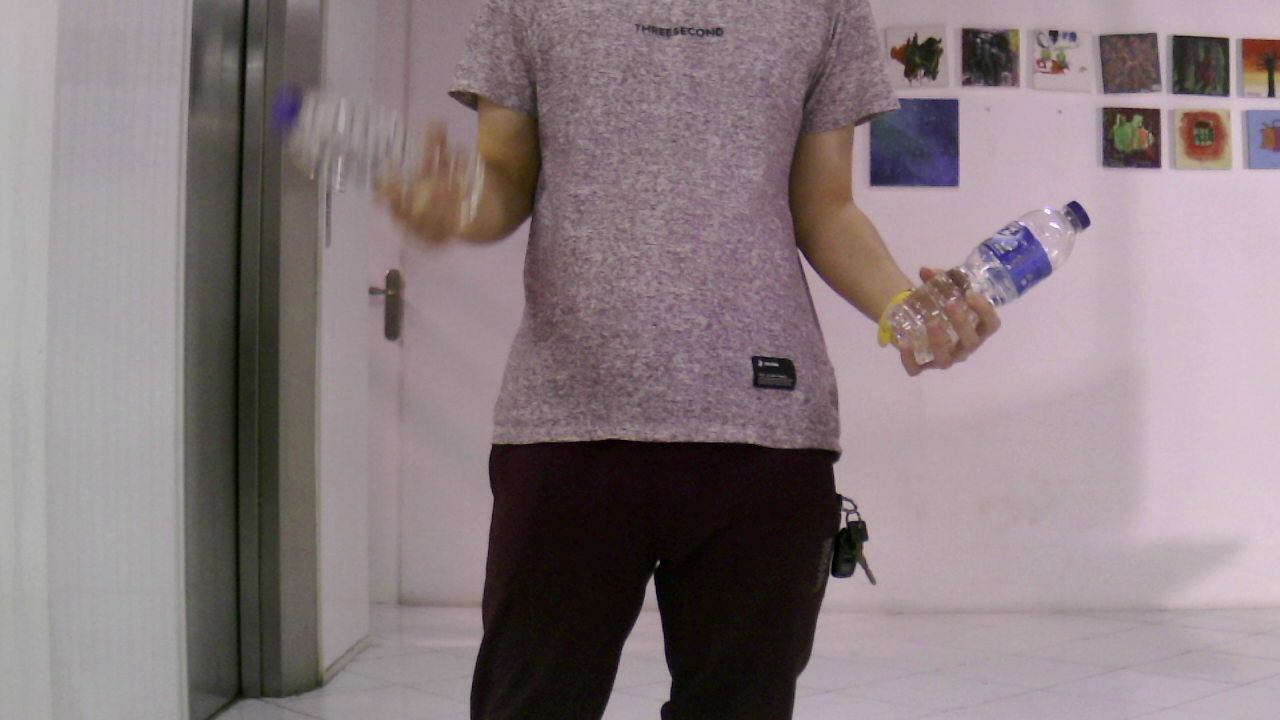Bottle: (891, 203, 1102, 370)
